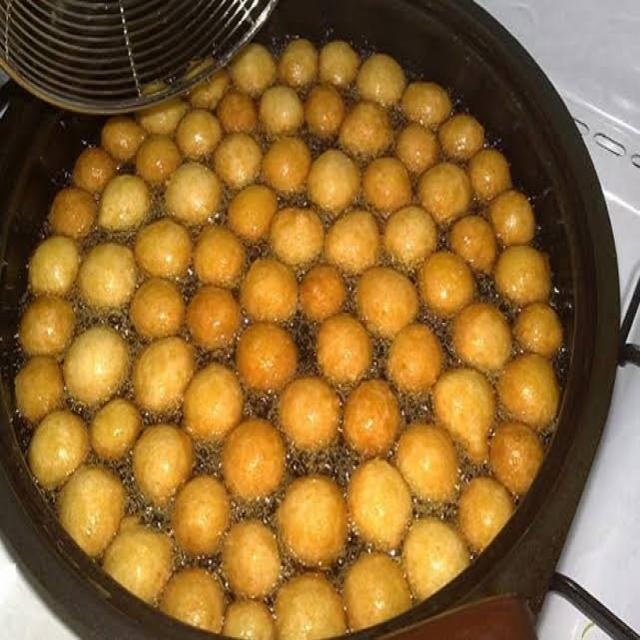Luqaimat: (36, 65, 555, 618)
